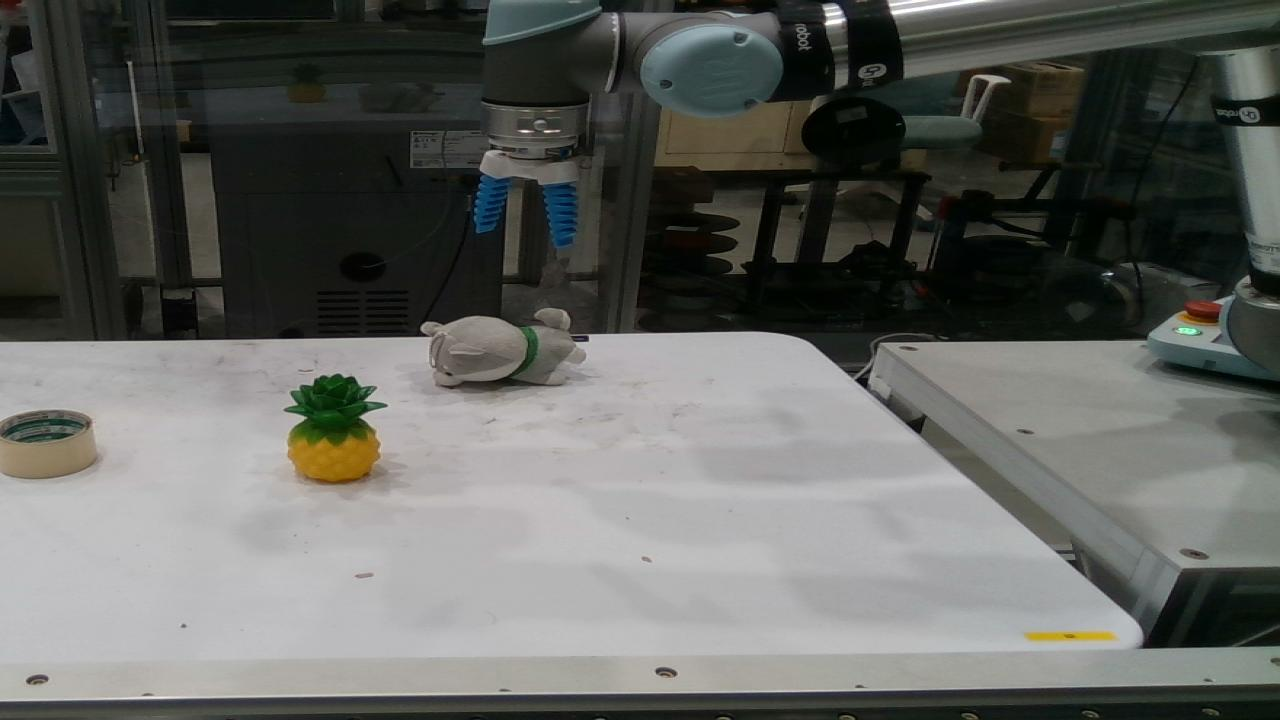UR5: (486, 2, 1270, 372)
gripper_left: (474, 177, 508, 232)
gripper_right: (544, 182, 574, 246)
target: (424, 309, 582, 386), (286, 376, 380, 480), (2, 410, 96, 478)
